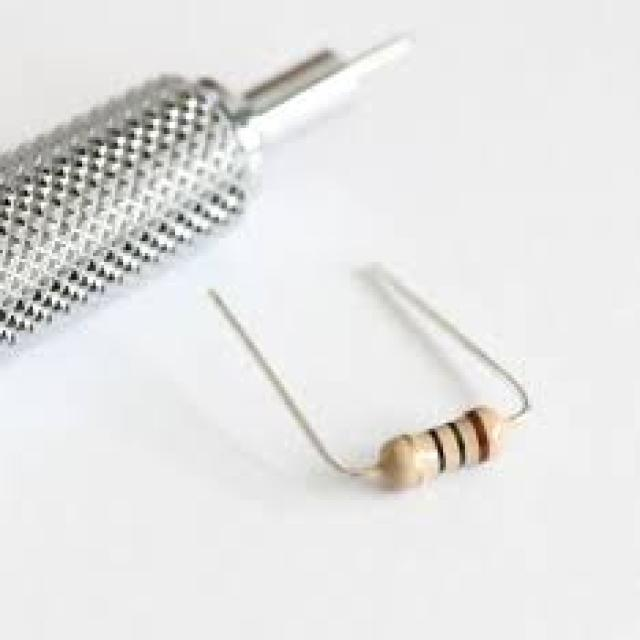Resistor: (372, 400, 514, 490)
